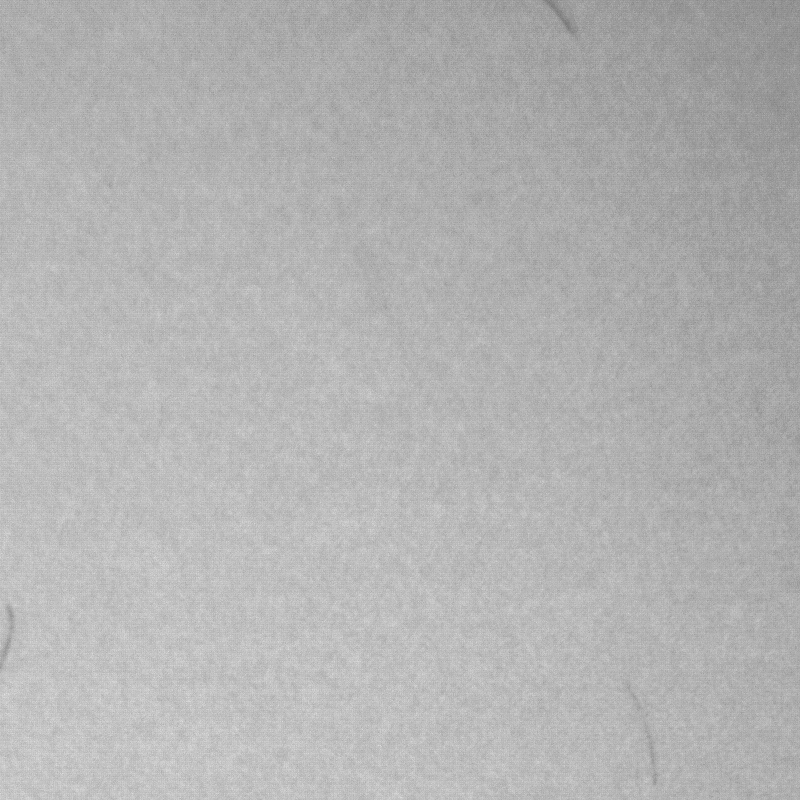defect: (629, 689, 662, 793), (545, 1, 578, 37), (1, 600, 18, 661)
